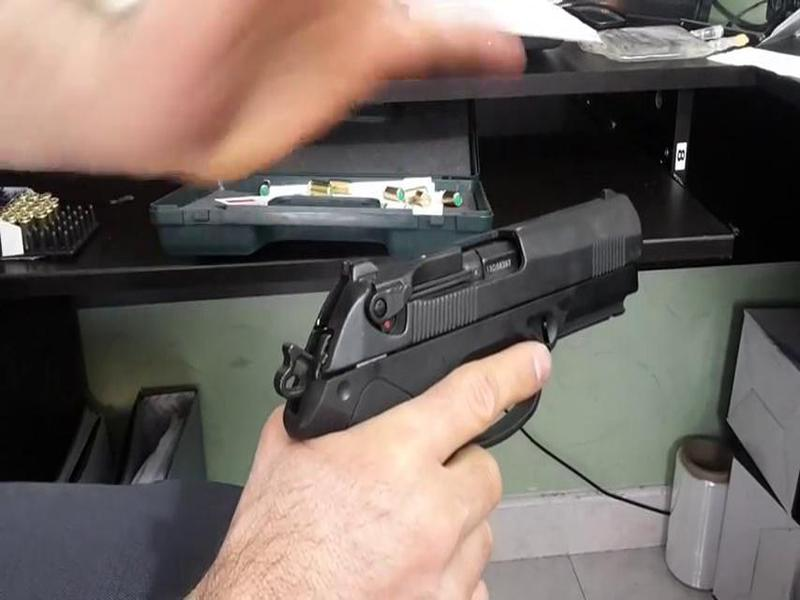Pistola: (265, 186, 665, 451)
